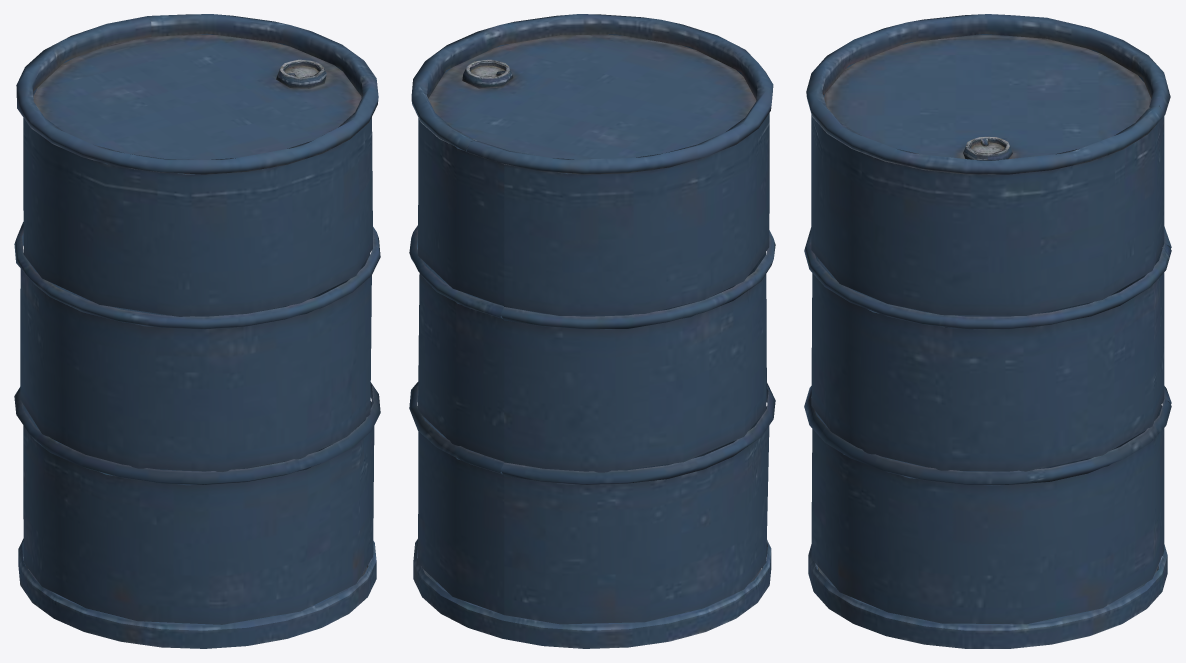
The model's file is barrel_rust.glb.
3 renders of one model, left to right at view 1: azimuth 30°, elevation 25°; view 2: azimuth 150°, elevation 25°; view 3: azimuth 270°, elevation 25°, orthographic.
Visible parts, largest first — view 1: barrel_rust; view 2: barrel_rust; view 3: barrel_rust.
Boxes of the visible parts, x1,y1,x2,y2 form: barrel_rust: [14, 14, 380, 648]; barrel_rust: [409, 14, 775, 648]; barrel_rust: [804, 14, 1171, 648].
Size of the model in its own units: 0.5991 by 0.88 by 0.6034.
Materials: 1 (1 with a texture image).
